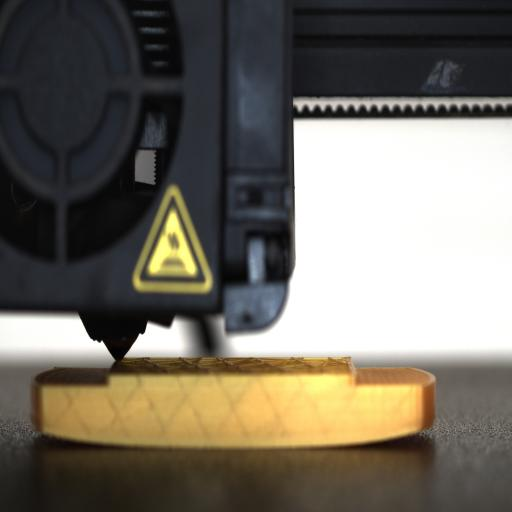warp: (364, 414, 436, 446)
